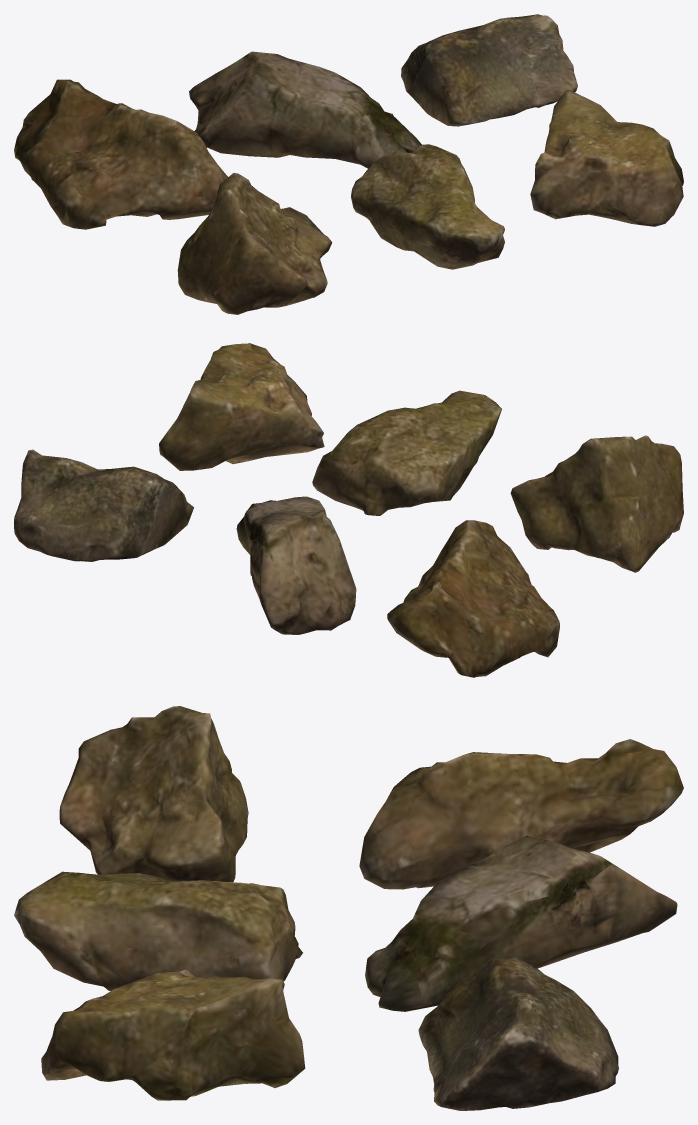
Rendered from rock_moss_set_01.glb.
3 renders of one model, top to bottom at view 1: azimuth 30°, elevation 25°; view 2: azimuth 150°, elevation 25°; view 3: azimuth 270°, elevation 25°, orthographic. The views are drawn at different scales.
Visible parts, largest first — view 1: rock_moss_set_01_rock01, rock_moss_set_01_rock02, rock_moss_set_01_rock06, rock_moss_set_01_rock04, rock_moss_set_01_rock03, rock_moss_set_01_rock05; view 2: rock_moss_set_01_rock04, rock_moss_set_01_rock01, rock_moss_set_01_rock05, rock_moss_set_01_rock03, rock_moss_set_01_rock06, rock_moss_set_01_rock02; view 3: rock_moss_set_01_rock01, rock_moss_set_01_rock02, rock_moss_set_01_rock05, rock_moss_set_01_rock04, rock_moss_set_01_rock06, rock_moss_set_01_rock03.
Part boxes in pixels (x1=…): rock_moss_set_01_rock01: x1=14, y1=79, x2=227, y2=229; rock_moss_set_01_rock02: x1=189, y1=51, x2=421, y2=168; rock_moss_set_01_rock06: x1=530, y1=89, x2=683, y2=226; rock_moss_set_01_rock04: x1=177, y1=173, x2=332, y2=314; rock_moss_set_01_rock03: x1=401, y1=14, x2=577, y2=126; rock_moss_set_01_rock05: x1=351, y1=144, x2=504, y2=269; rock_moss_set_01_rock04: x1=510, y1=435, x2=683, y2=572; rock_moss_set_01_rock01: x1=387, y1=520, x2=559, y2=677; rock_moss_set_01_rock05: x1=312, y1=390, x2=501, y2=515; rock_moss_set_01_rock03: x1=14, y1=449, x2=193, y2=561; rock_moss_set_01_rock06: x1=159, y1=343, x2=324, y2=470; rock_moss_set_01_rock02: x1=236, y1=496, x2=356, y2=634; rock_moss_set_01_rock01: x1=359, y1=739, x2=683, y2=889; rock_moss_set_01_rock02: x1=365, y1=835, x2=677, y2=1011; rock_moss_set_01_rock05: x1=14, y1=871, x2=302, y2=990; rock_moss_set_01_rock04: x1=59, y1=706, x2=248, y2=882; rock_moss_set_01_rock06: x1=41, y1=969, x2=305, y2=1100; rock_moss_set_01_rock03: x1=418, y1=955, x2=618, y2=1110.
Bounding box in the file's own units: 8 × 1.76 × 6.94.
1 material, 1 textured.
